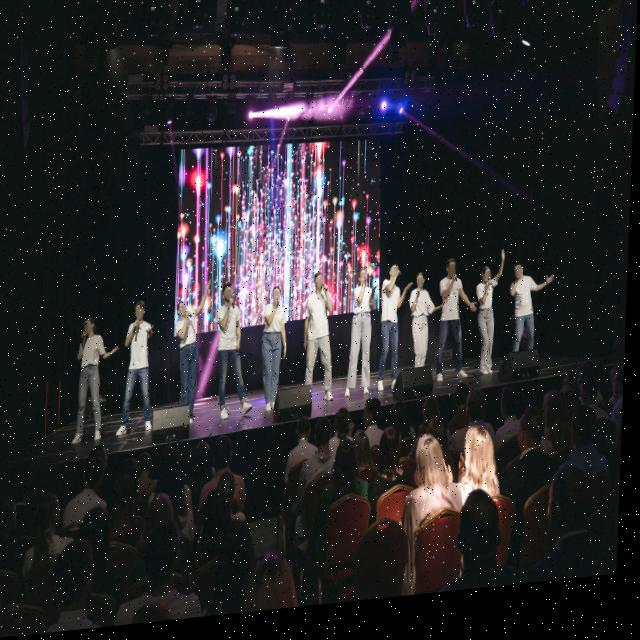Person: (538, 471, 613, 595), (66, 316, 116, 461), (213, 280, 261, 429), (456, 495, 523, 601), (301, 276, 346, 422), (119, 300, 162, 452), (48, 527, 103, 635), (136, 523, 192, 627), (193, 490, 260, 572), (173, 292, 211, 433), (512, 259, 560, 366), (438, 264, 474, 400), (407, 440, 454, 542), (377, 267, 410, 408), (348, 267, 380, 411), (476, 258, 509, 391), (35, 480, 80, 577), (260, 290, 292, 418), (515, 415, 558, 501), (142, 489, 177, 592), (468, 425, 504, 518), (333, 446, 376, 518), (412, 273, 439, 385), (292, 411, 327, 486), (376, 432, 412, 503), (0, 484, 30, 569), (110, 482, 144, 556), (542, 395, 569, 485), (570, 419, 600, 487), (117, 455, 155, 508), (599, 427, 626, 498), (158, 452, 191, 504), (314, 423, 336, 497), (89, 455, 114, 519), (499, 393, 526, 451), (218, 435, 247, 489), (196, 441, 223, 496), (583, 386, 610, 441), (361, 398, 384, 458), (467, 394, 490, 444), (338, 414, 360, 458), (424, 400, 443, 444), (577, 374, 602, 407), (616, 381, 627, 435)
